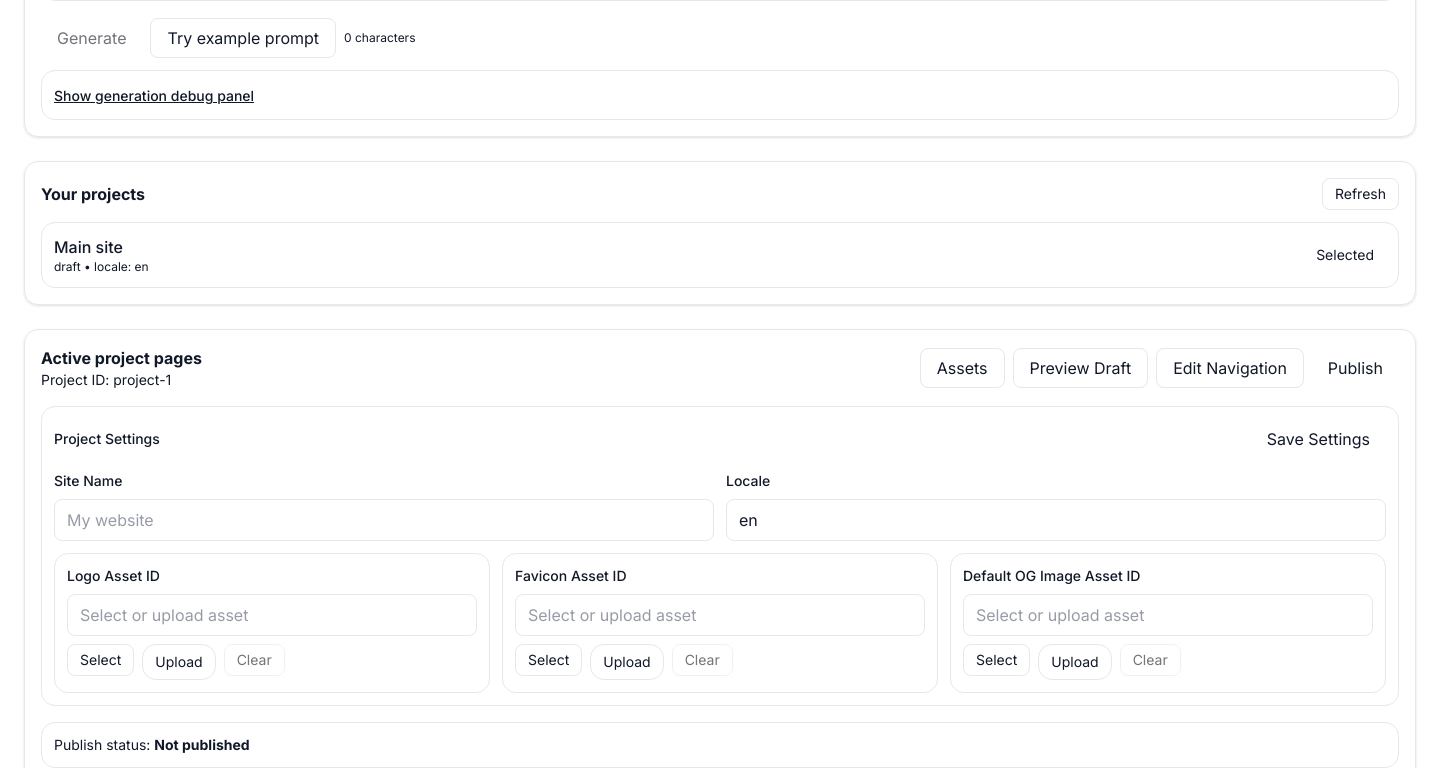
Test: ProjectsApiScreen toasts › updates to Live (up to date) when a publish completes
(page scrolled)
Click the button "Publish". click: (1355, 368)
box: [1312,348,1399,388]
(page scrolled)
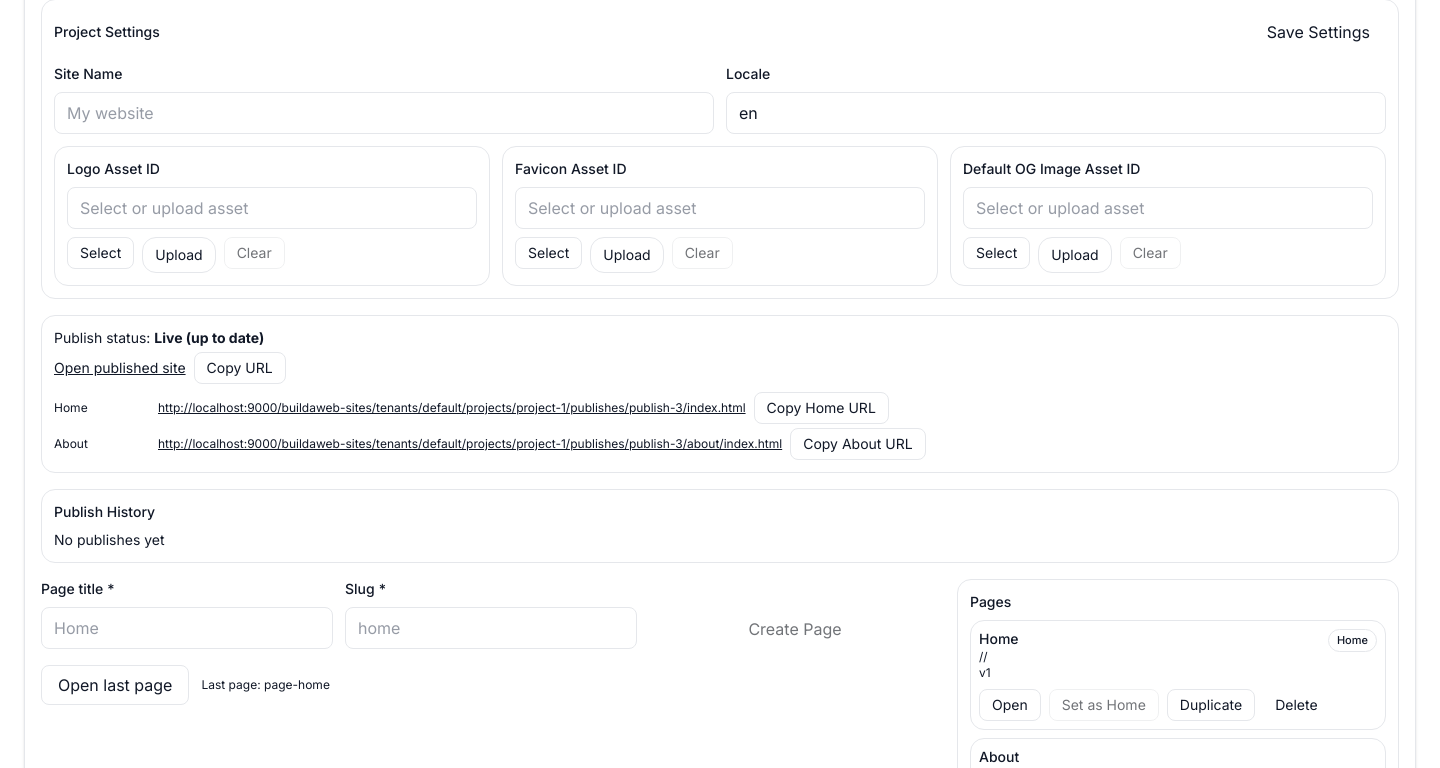
Expected: the text "Live (up to date)" is shown, [154,329,264,346]
